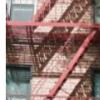stairs: (31, 34, 97, 100), (27, 0, 58, 36)
